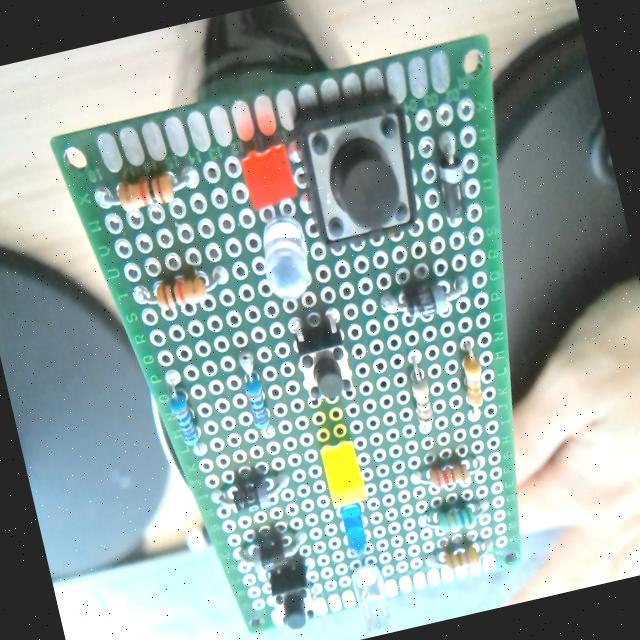diode: (377, 272, 470, 328), (210, 464, 294, 520), (234, 524, 312, 574), (430, 134, 475, 220)
led: (252, 211, 318, 305), (234, 130, 302, 213), (318, 438, 368, 508), (350, 564, 396, 638), (338, 504, 371, 558)
resistor: (159, 366, 203, 454), (236, 349, 274, 434), (402, 352, 440, 434), (114, 168, 175, 214), (421, 498, 492, 536), (456, 348, 490, 414), (153, 272, 207, 312), (424, 458, 470, 492), (440, 543, 480, 572)
switch: (291, 90, 430, 251), (290, 310, 358, 408), (265, 558, 320, 634)
